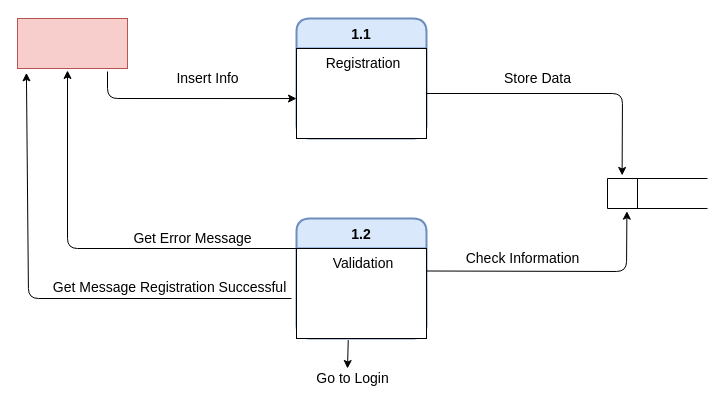
Some shapes in this 725 by 405 pixel diagram are drawn without their labels. The centre of each missing label's shape, as x and y in pixels:
"D1 TSM" belongs at point (657, 193).
"Office Employee" belongs at point (72, 43).
